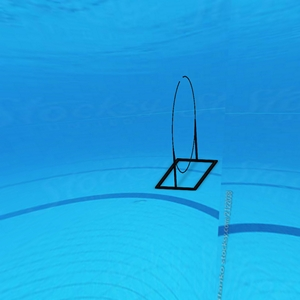circle: (152, 76, 222, 198)
